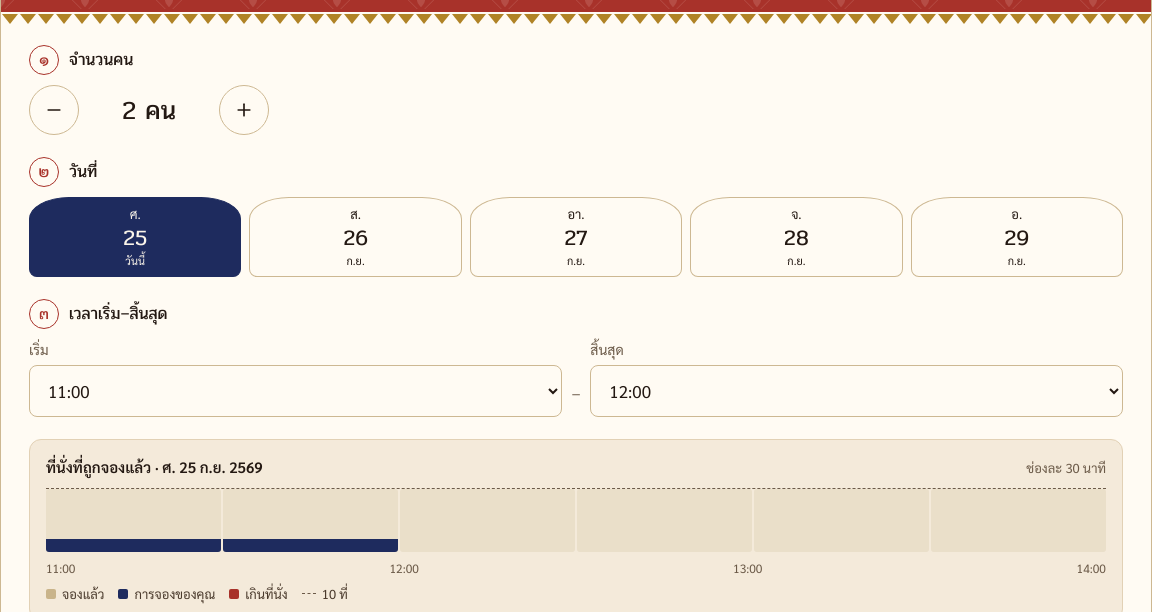
Test case: BookingTicket › เลือกวันอื่น → โหลดที่นั่งของวันนั้น
Click the button "อา. 27 ก.ย.".
click(576, 237)  # box [470, 197, 682, 276]
(page scrolled)
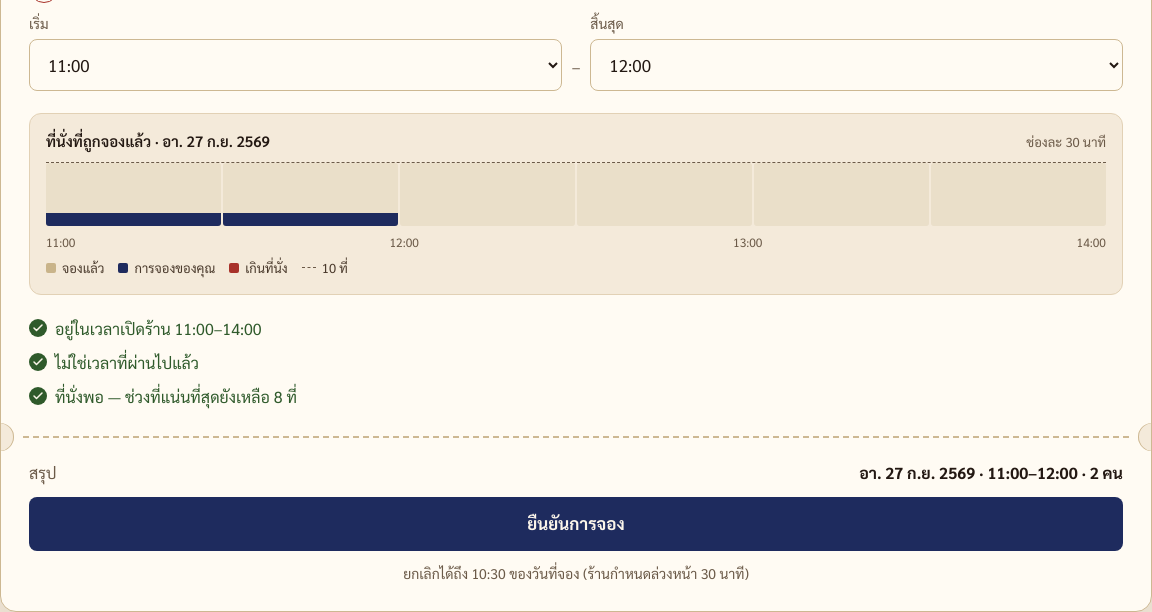
expect the text "อา. 27 ก.ย. 2569 · 11:00–12:00 · 2 คน" is shown: met, box [859, 460, 1123, 484]
